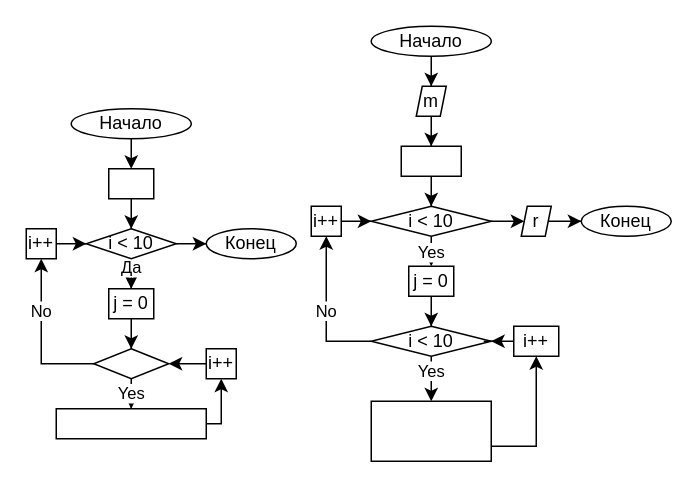
This 698x489 diagram has some shape labels left out. Here are the shapes that lost their labels. From the top down, the centre of each, then its label:
(x=430, y=160): r, i = 0
(x=130, y=183): i = 0
(x=130, y=363): j < 10
(x=130, y=423): matrix[i][j] = rand()
(x=430, y=430): r.matrix[i][j] = matrix[i][j] + m.matrix[i][j]
